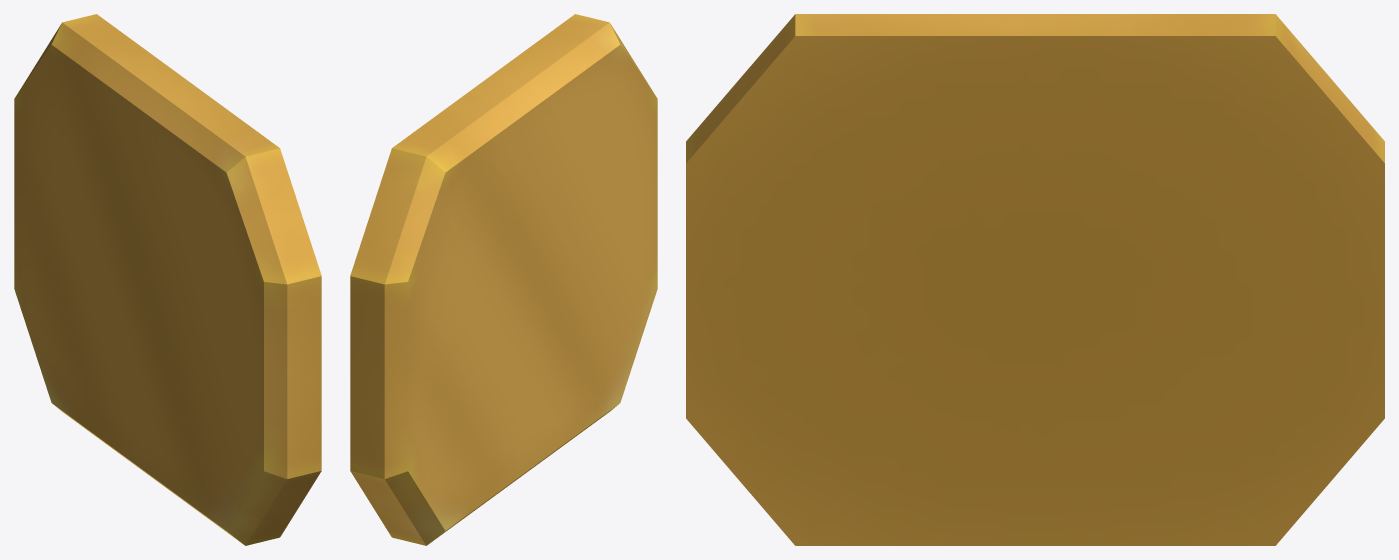
Rendered from Asset_Box_Lock.fbx.
3 views of the same model, side by side, from view 1: azimuth 30°, elevation 25°; view 2: azimuth 150°, elevation 25°; view 3: azimuth 270°, elevation 25° (orthographic). The views are drawn at different scales.
Visible parts, largest first — view 1: Asset_serrure; view 2: Asset_serrure; view 3: Asset_serrure.
Boxes of the visible parts, x1,y1,x2,y2 form: Asset_serrure: (14,14,321,545); Asset_serrure: (350,14,657,545); Asset_serrure: (686,14,1384,545).
Size of the model in its own units: 7.86 by 59.22 by 73.56.
